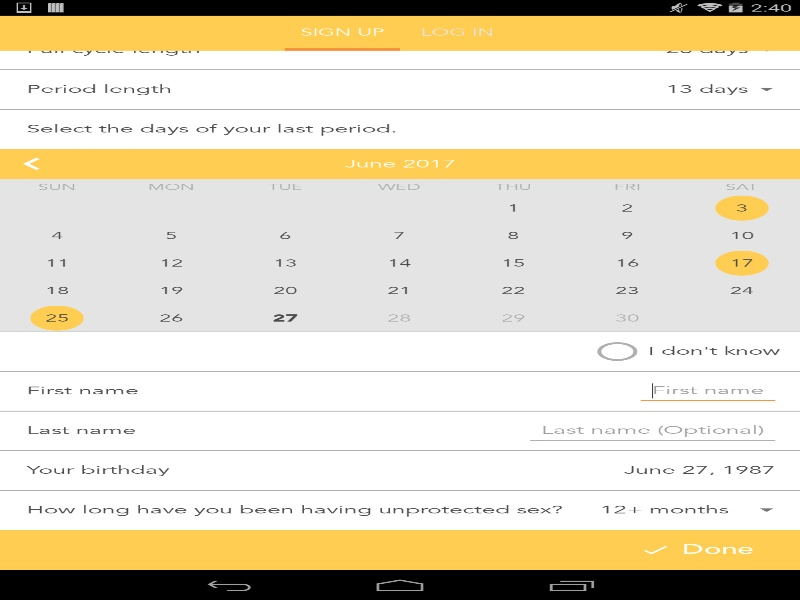Button: (619, 459, 780, 481)
Input: (525, 418, 780, 443), (636, 379, 780, 403)
